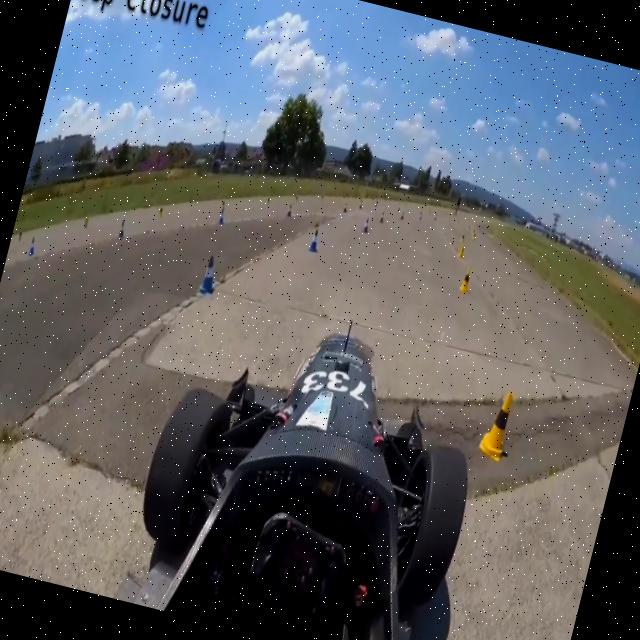blue_cone: (191, 249, 220, 297), (303, 228, 323, 255), (360, 214, 372, 230)
yellow_cone: (474, 381, 522, 465), (454, 266, 475, 298)
